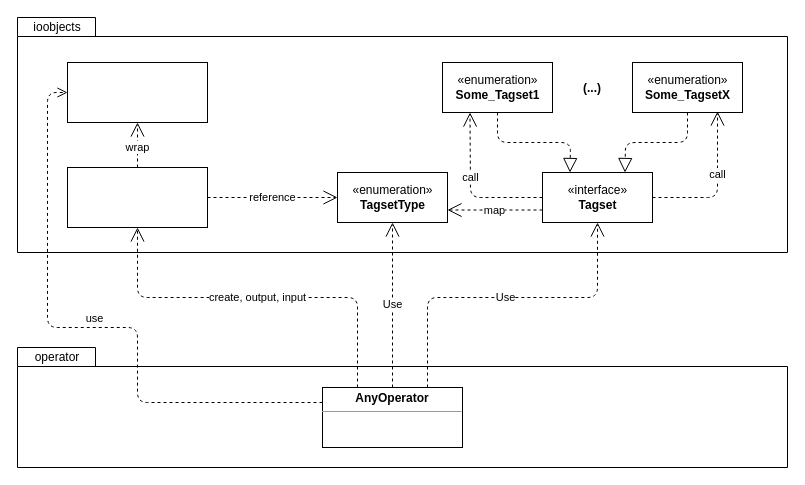
This 805x485 diagram has some shape labels left out. Here are the shapes that lost their labels. From the top down, the box of each, then its label:
(66, 62, 208, 122): TagToken
(66, 166, 208, 228): TagString
